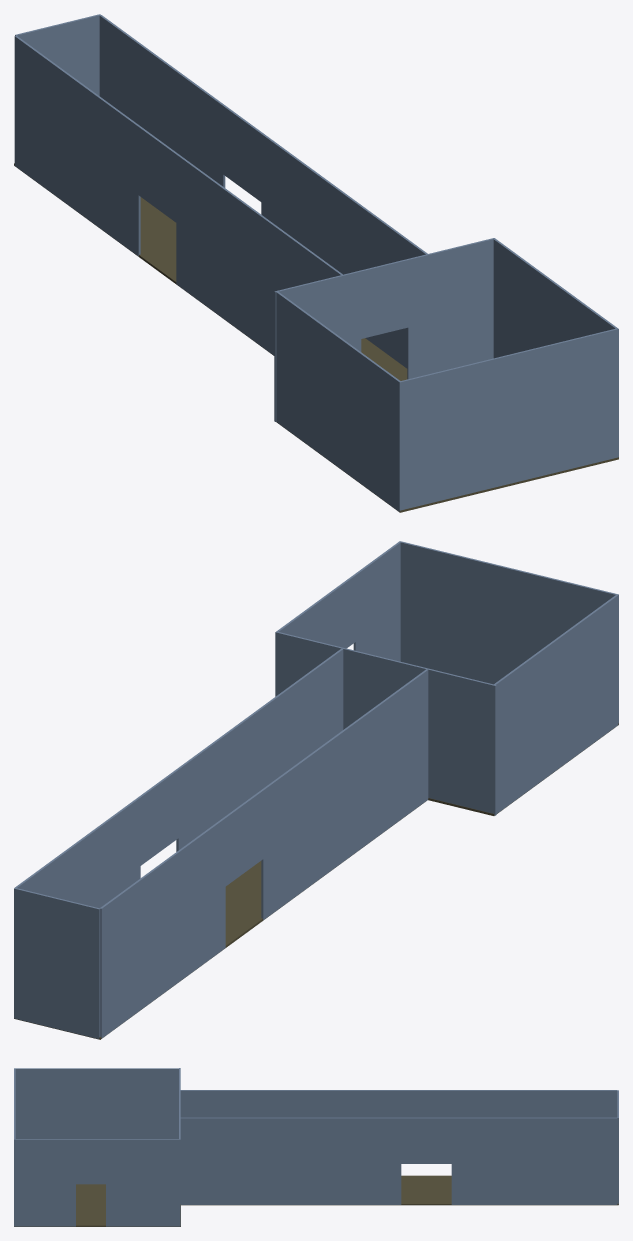
The model's file is ChrisHouseP1.fbx.
3 renders of one model, top to bottom at view 1: azimuth 30°, elevation 25°; view 2: azimuth 150°, elevation 25°; view 3: azimuth 270°, elevation 25°, orthographic. The views are drawn at different scales.
Parts seen in each view (by area): view 1: Cube.002, Cube.016, Cube.004, Cube.009, Cube.010, Cube.000, Cube.012, Cube.006, Cube.008, Cube.013, Cube.011, Cube.003 (+5 smaller); view 2: Cube.009, Cube.002, Cube.016, Cube.004, Cube.010, Cube.013, Cube.003, Cube.012, Cube.005, Cube.000, Cube.014, Cube.015 (+4 smaller); view 3: Cube.010, Cube.012, Cube.004, Cube.006, Cube.009, Cube.005, Cube.016, Cube.015, Cube.011, Cube.014, Cube.001, Cube.007.
Boxes of the visible parts, x1=… form: Cube.002: x1=399, y1=328, x2=618, y2=511; Cube.016: x1=14, y1=35, x2=140, y2=256; Cube.004: x1=275, y1=291, x2=400, y2=511; Cube.009: x1=176, y1=154, x2=342, y2=355; Cube.010: x1=261, y1=133, x2=427, y2=368; Cube.000: x1=407, y1=238, x2=494, y2=379; Cube.012: x1=99, y1=15, x2=225, y2=187; Cube.006: x1=493, y1=238, x2=549, y2=358; Cube.008: x1=349, y1=259, x2=408, y2=341; Cube.013: x1=15, y1=14, x2=100, y2=95; Cube.011: x1=14, y1=163, x2=407, y2=380; Cube.003: x1=274, y1=270, x2=361, y2=421; Cube.009: x1=261, y1=669, x2=428, y2=920; Cube.002: x1=399, y1=541, x2=618, y2=723; Cube.016: x1=100, y1=818, x2=225, y2=1038; Cube.004: x1=493, y1=595, x2=618, y2=813; Cube.010: x1=176, y1=648, x2=343, y2=851; Cube.013: x1=14, y1=887, x2=100, y2=1038; Cube.003: x1=409, y1=664, x2=496, y2=815; Cube.012: x1=15, y1=797, x2=140, y2=908; Cube.005: x1=353, y1=542, x2=400, y2=661; Cube.000: x1=275, y1=631, x2=362, y2=729; Cube.014: x1=223, y1=789, x2=264, y2=886; Cube.015: x1=138, y1=768, x2=179, y2=865; Cube.010: x1=180, y1=1117, x2=401, y2=1204; Cube.012: x1=451, y1=1117, x2=617, y2=1204; Cube.004: x1=15, y1=1068, x2=179, y2=1138; Cube.006: x1=106, y1=1139, x2=180, y2=1226; Cube.009: x1=180, y1=1090, x2=401, y2=1117; Cube.005: x1=14, y1=1139, x2=75, y2=1226; Cube.016: x1=451, y1=1090, x2=617, y2=1117; Cube.015: x1=400, y1=1117, x2=452, y2=1163; Cube.011: x1=181, y1=1175, x2=618, y2=1205; Cube.014: x1=401, y1=1090, x2=452, y2=1117; Cube.001: x1=14, y1=1184, x2=180, y2=1226; Cube.007: x1=76, y1=1139, x2=105, y2=1184.
Size of the model in its own units: 3282 by 1858 by 11685.
